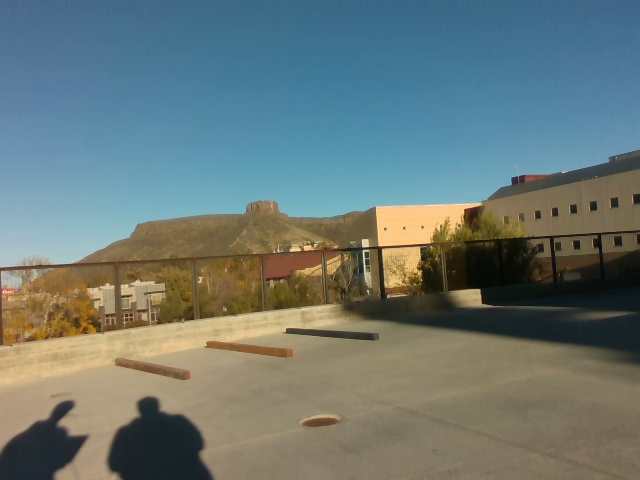Dunnage: (113, 310, 385, 390)
